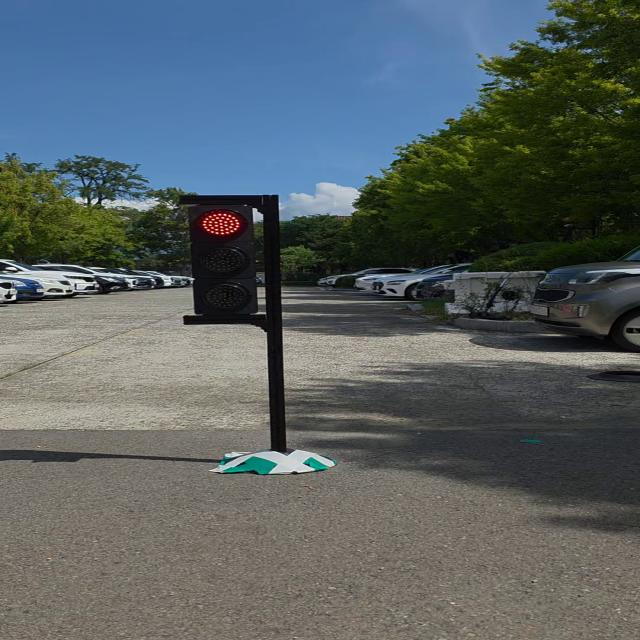red: (181, 196, 265, 322)
